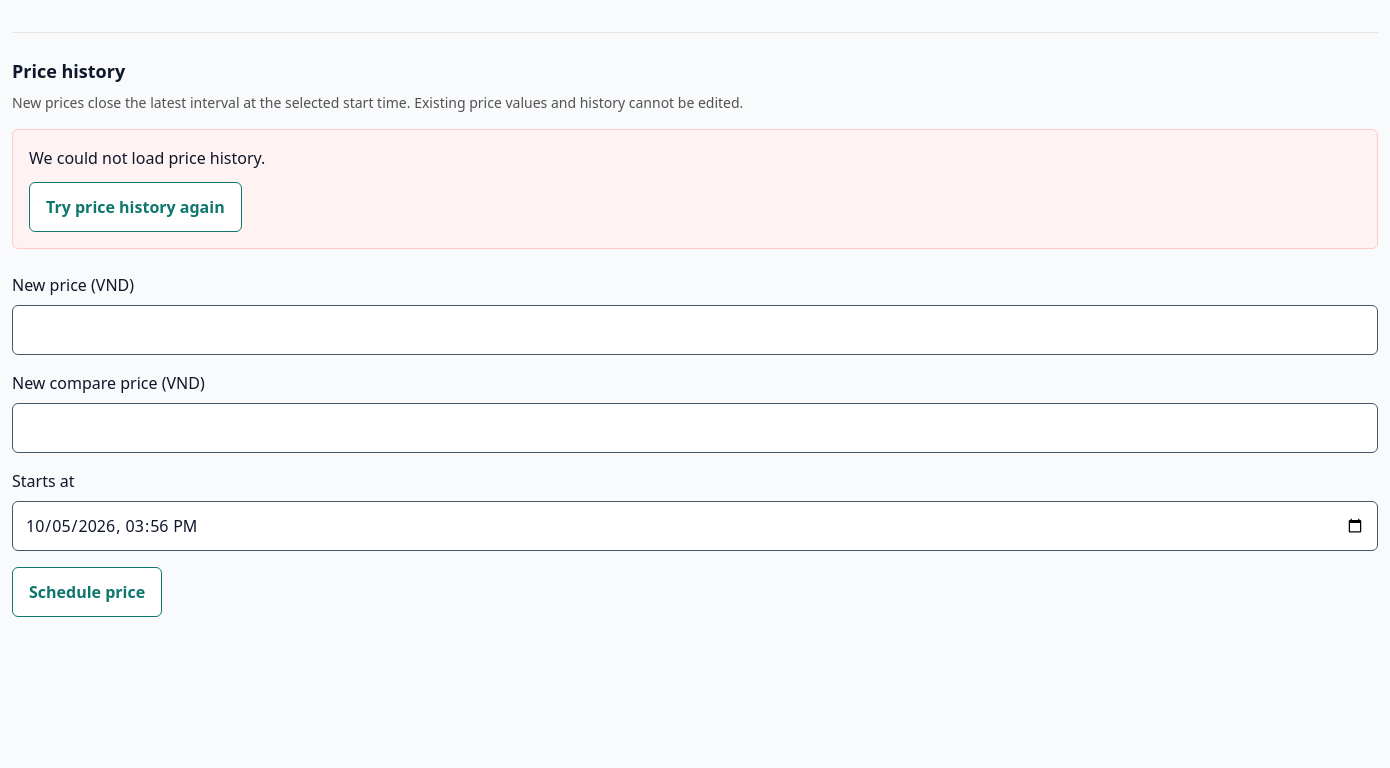
Test: admin product price manager › covers empty, load-error, and retry states
The image size is (1390, 768).
Expected: the message shows "could not load price history", x1=29 y1=147 x2=265 y2=169
Click the button "Try price history again" at (135, 207), box x1=29 y1=182 x2=242 y2=232
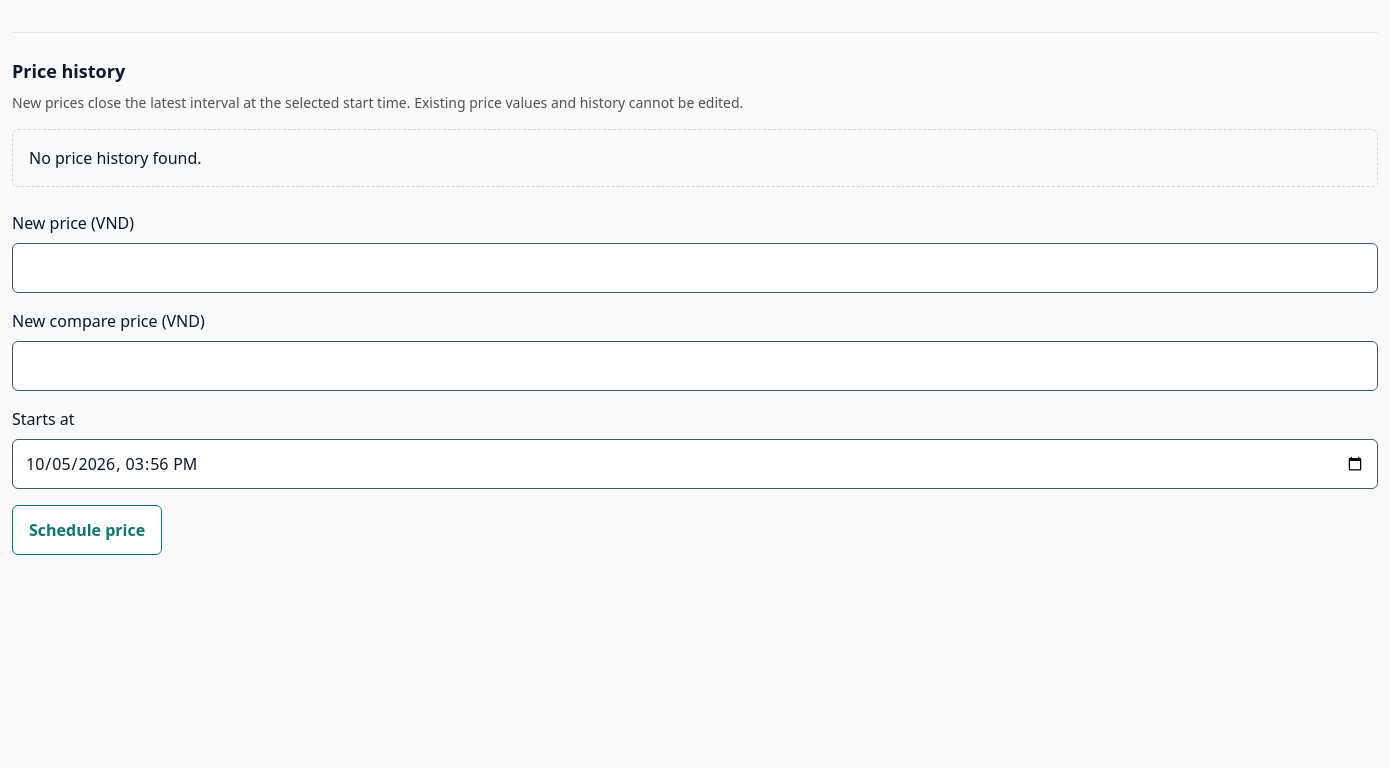
Now the text "No price history found." is shown, box x1=12 y1=129 x2=1378 y2=187
